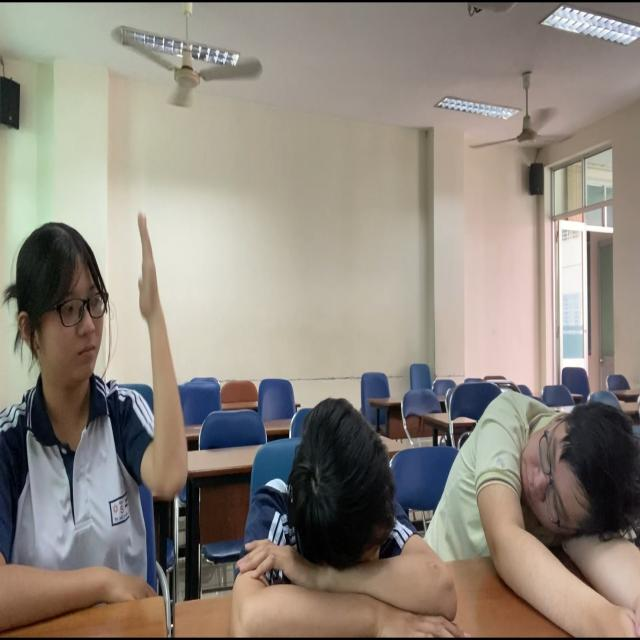raise_hand: (1, 197, 192, 640)
sleep: (218, 383, 453, 640), (441, 358, 640, 614)
